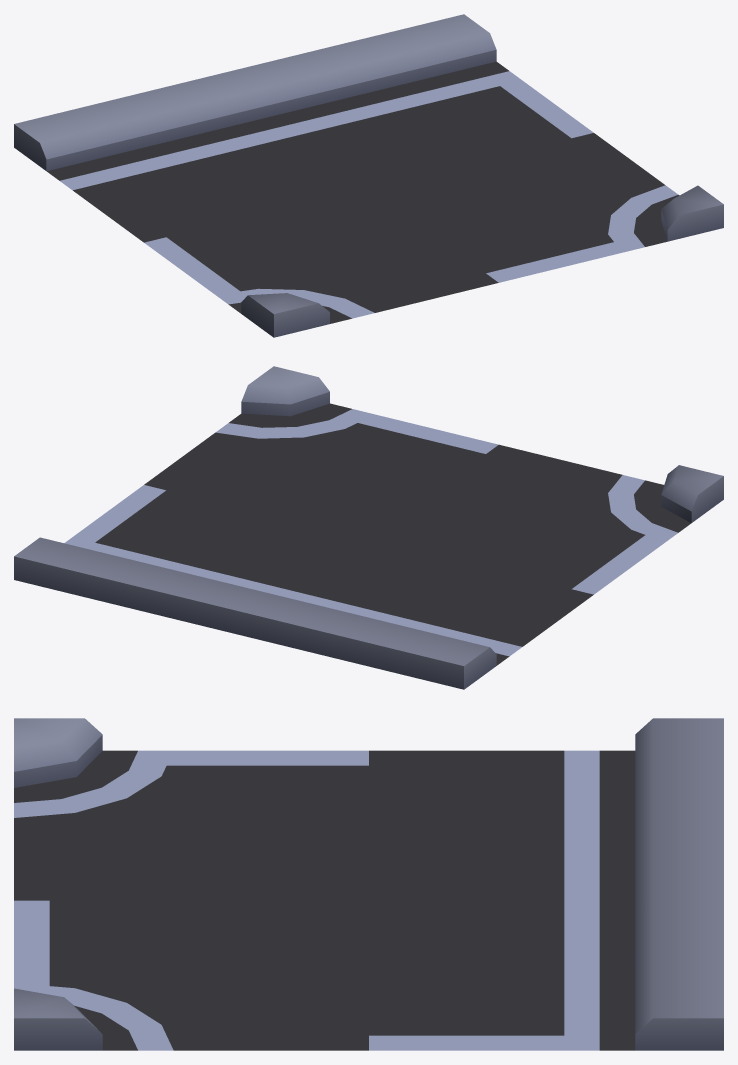
Rendered from citykit_road_split.glb.
3 views of the same model, one above another, from view 1: azimuth 30°, elevation 25°; view 2: azimuth 150°, elevation 25°; view 3: azimuth 270°, elevation 25° (orthographic). The views are drawn at different scales.
Parts seen in each view (by area): view 1: road-split; view 2: road-split; view 3: road-split.
Part boxes in pixels (x1=…): road-split: x1=14, y1=14, x2=723, y2=337; road-split: x1=14, y1=366, x2=723, y2=689; road-split: x1=14, y1=718, x2=723, y2=1050.
Bounding box in the file's own units: 1 × 0.05 × 1.
Materials: 1 (1 with a texture image).
